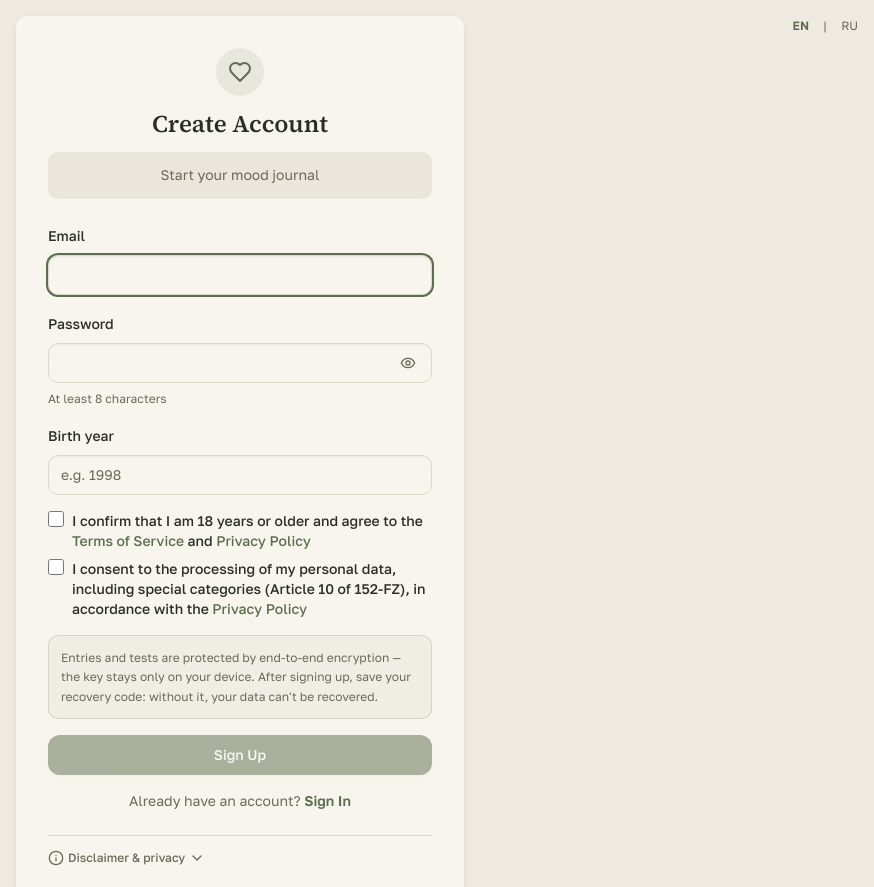
Test: RegisterPage › blocks submit when birth year makes user under 18
The image size is (874, 887).
Type "minor@example.com" into the field labelled "Email". click: (240, 275)
box: [48, 255, 432, 295]
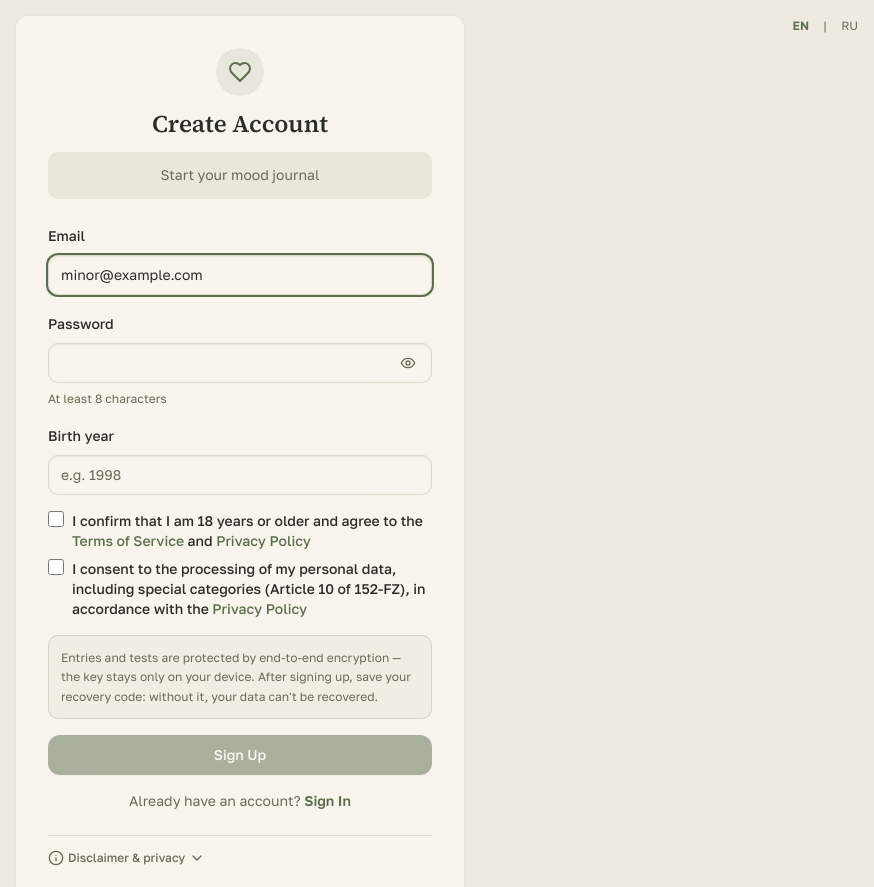
Type "secret123" into the password field labelled "Password". click: (240, 363)
box: [48, 343, 432, 383]
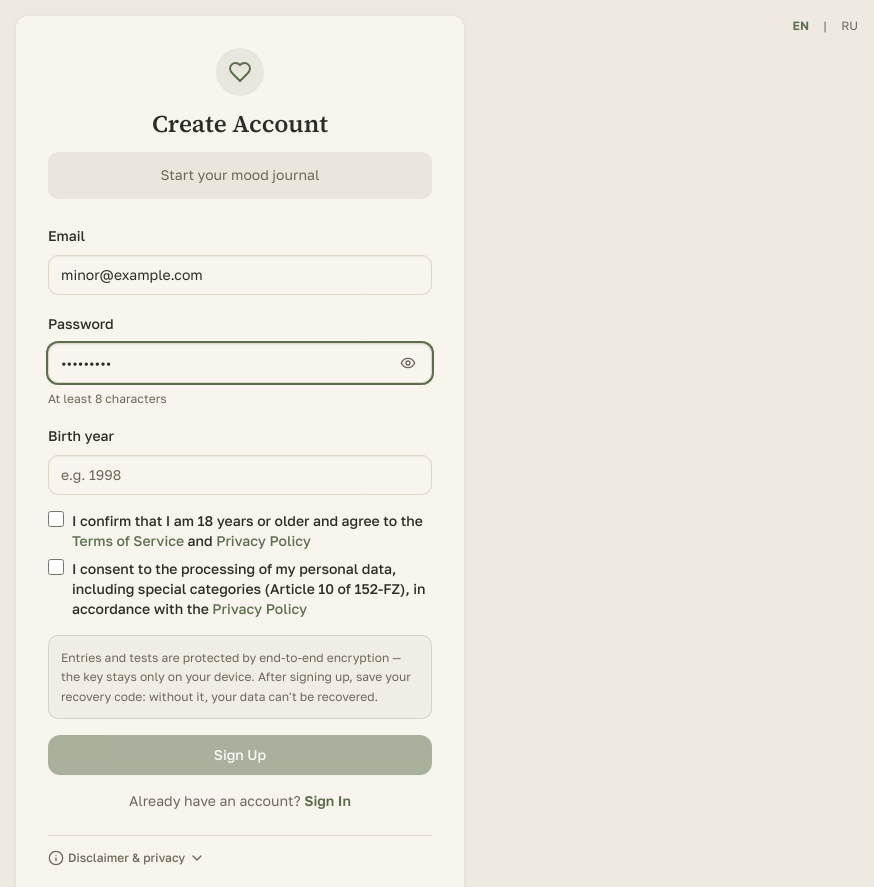
Type "2010" into the field labelled "Birth year". click: (240, 475)
box: [48, 455, 432, 495]
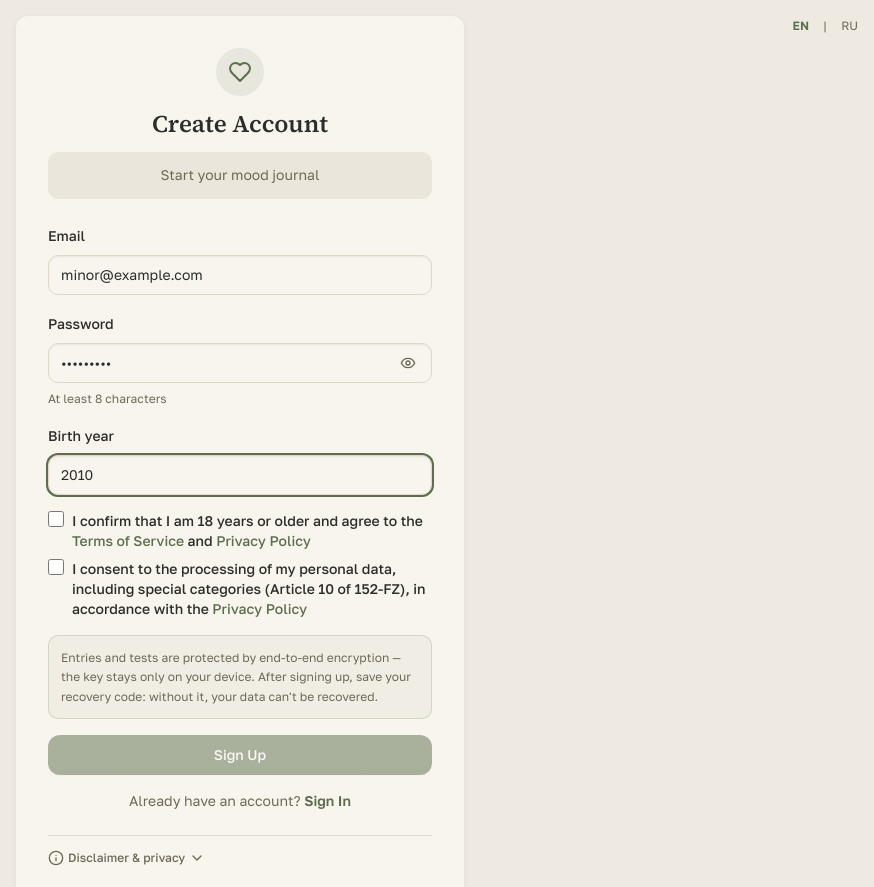
Click the 1st checkbox. click: (56, 519)
box: [48, 511, 64, 527]
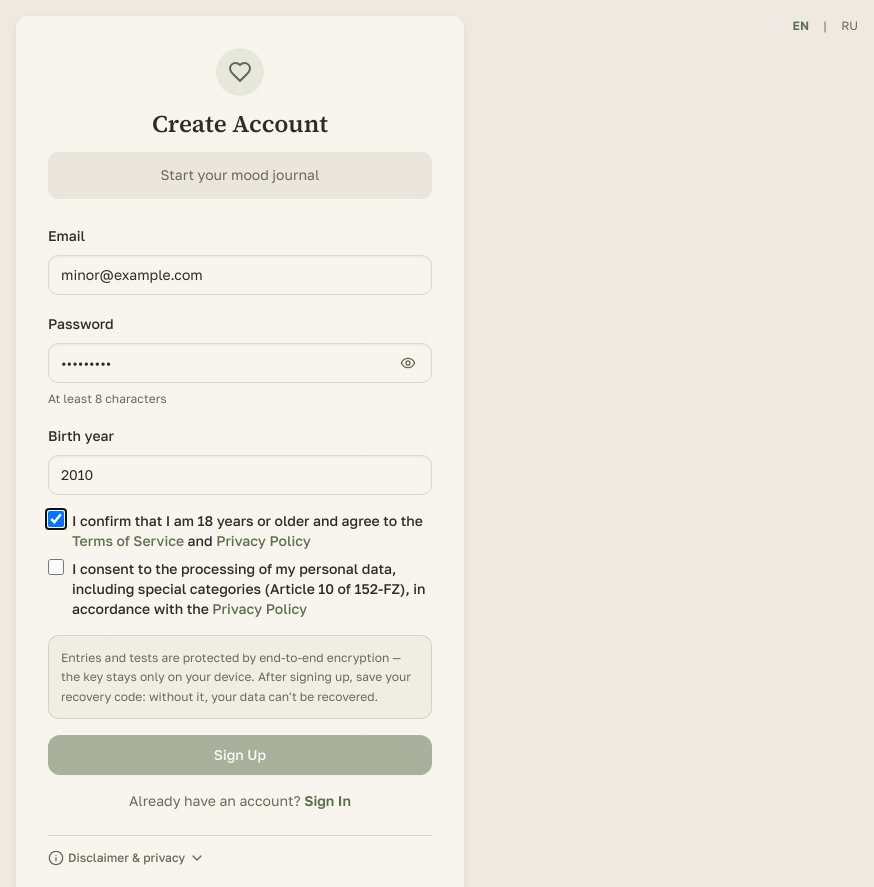
Click the 2nd checkbox. click: (56, 567)
box: [48, 559, 64, 575]
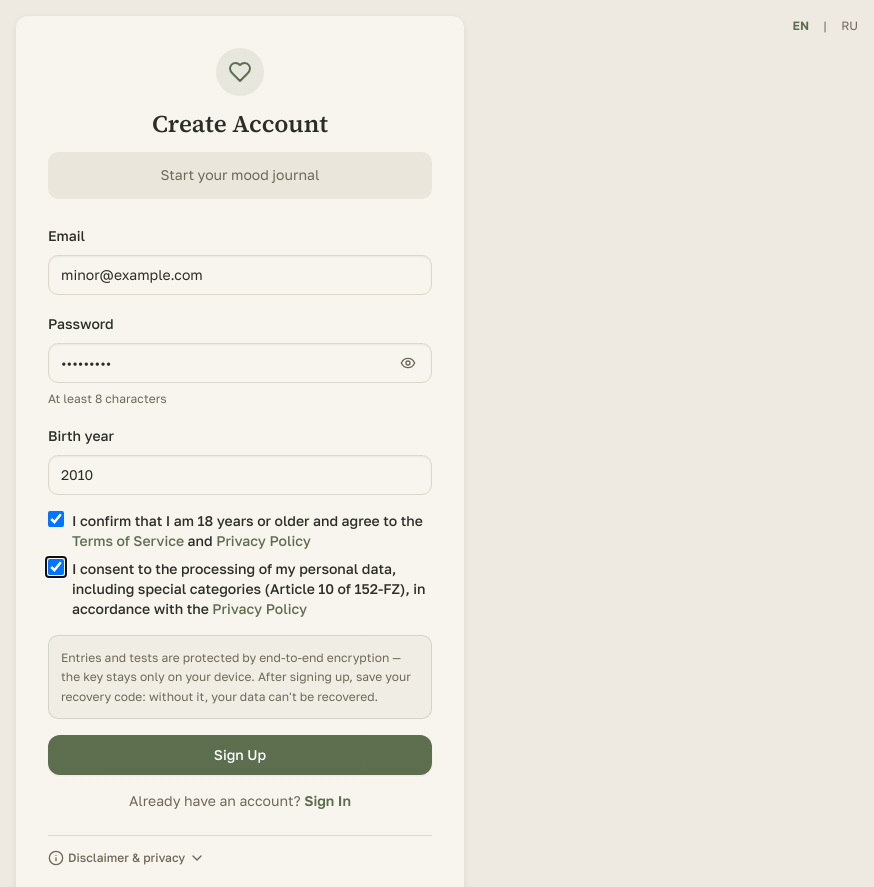
Click the button "Sign Up". click: (240, 755)
box: [48, 735, 432, 775]
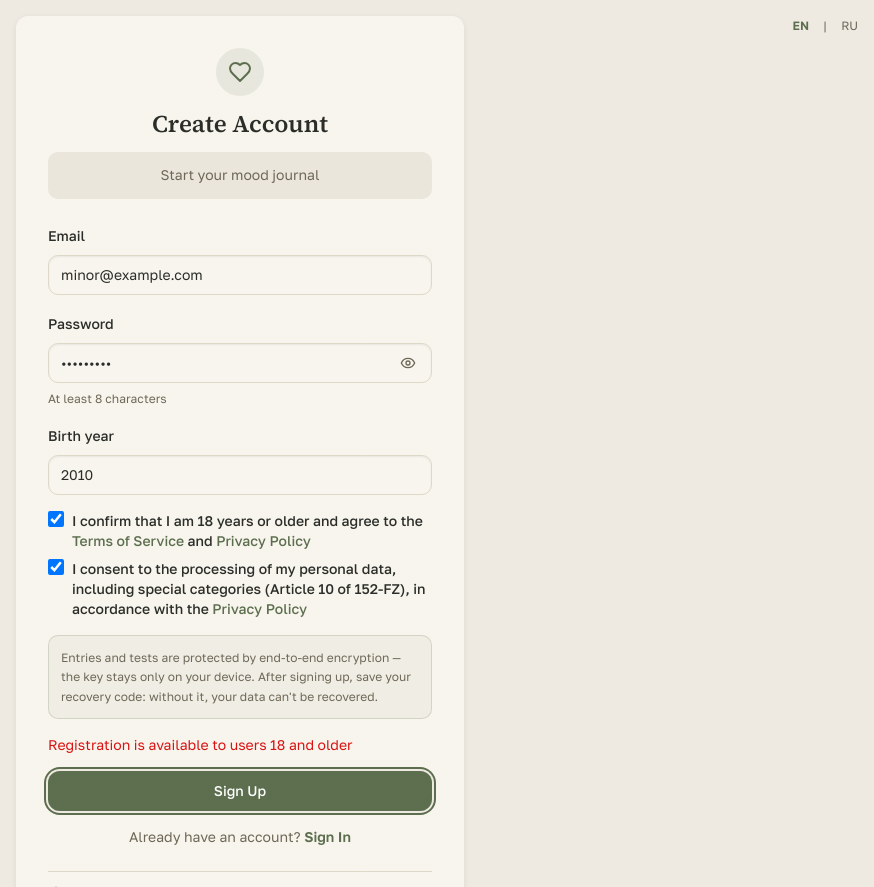
Expected: the text "Registration is available to users 18 and older" is shown, [48, 736, 352, 753]
